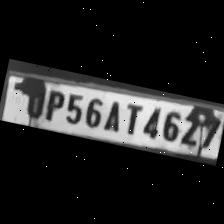2: (178, 107, 207, 149)
4: (138, 102, 164, 140)
5: (59, 88, 86, 125)
6: (156, 106, 183, 143), (80, 93, 106, 129)
A: (100, 96, 126, 134)
P: (40, 85, 67, 122)
T: (118, 99, 144, 137)
U: (15, 78, 48, 119)
